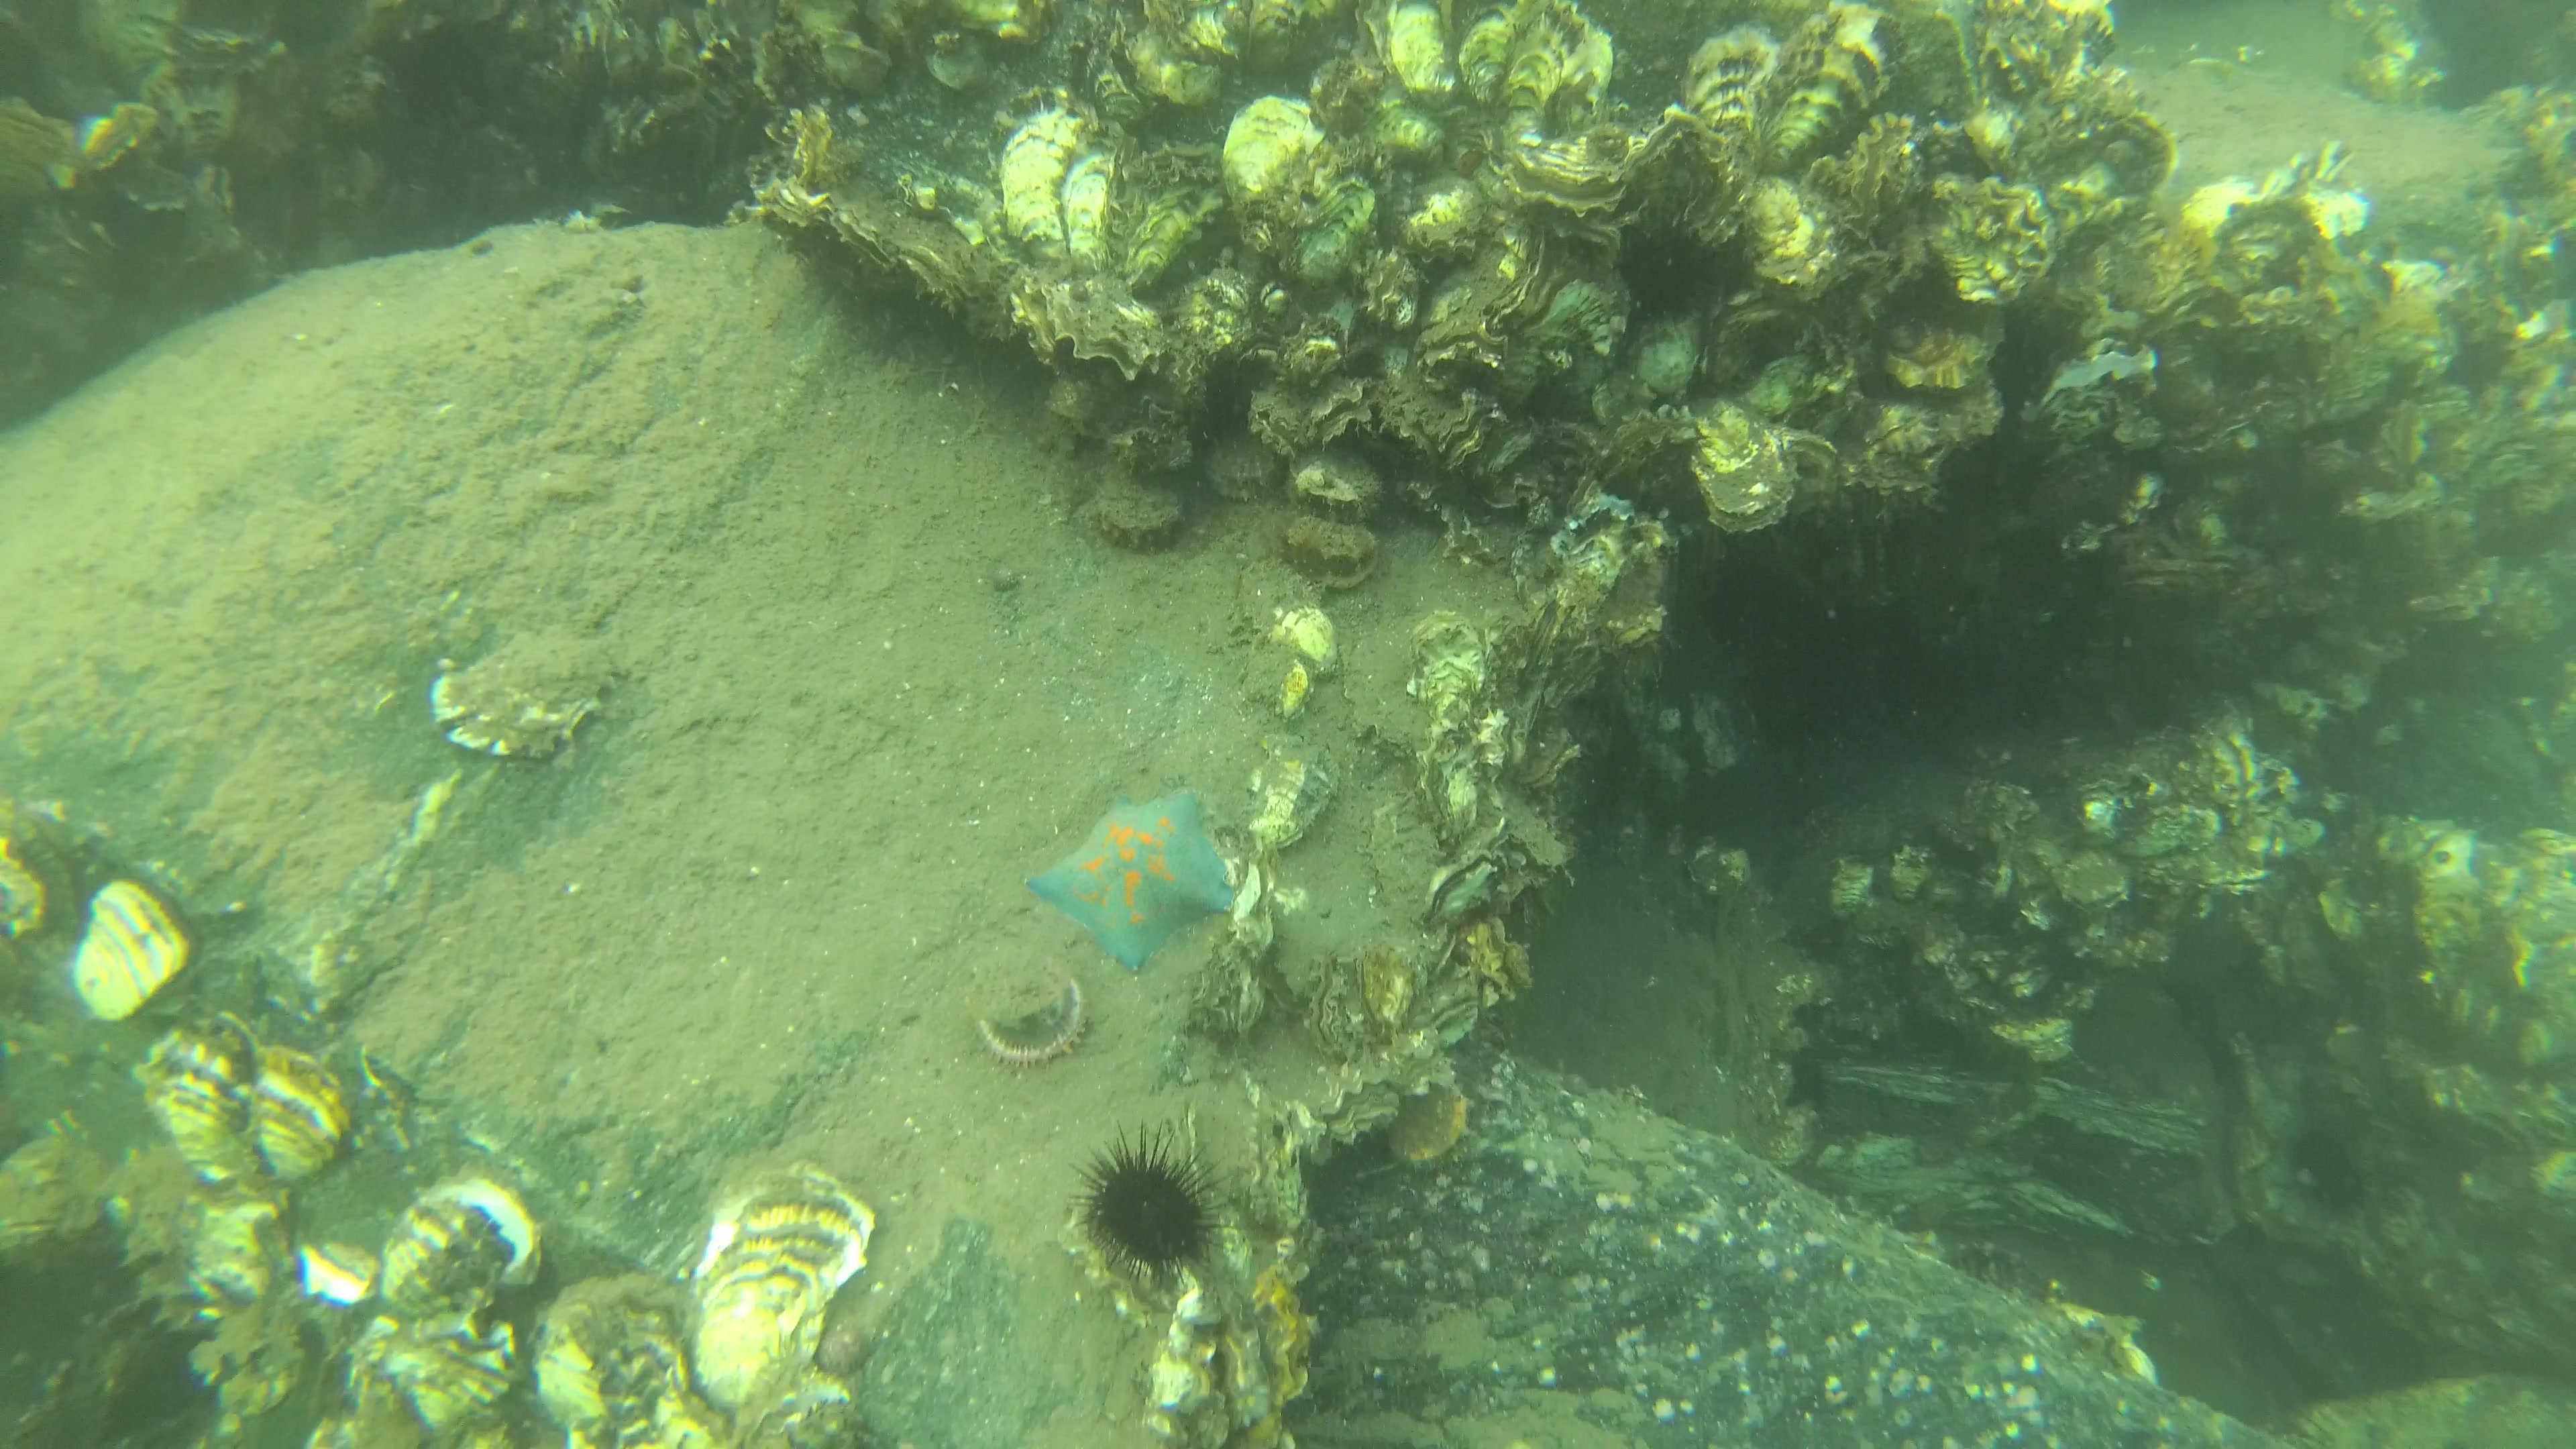echinus: (1058, 1122, 1240, 1295), (2291, 1118, 2376, 1223)
starfish: (1024, 786, 1253, 971)
